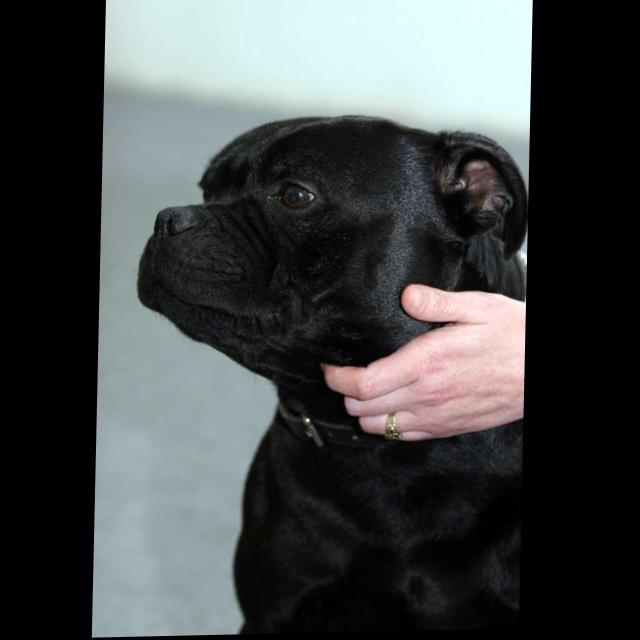staffford: (134, 112, 533, 638)
